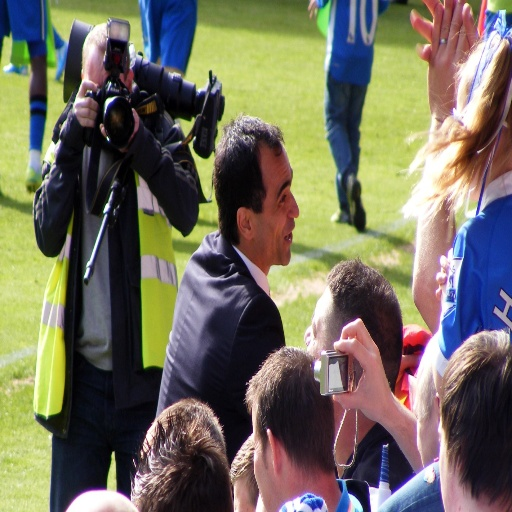hand: (339, 327, 413, 466), (427, 0, 470, 124), (408, 0, 480, 62), (99, 108, 140, 151), (393, 353, 423, 409), (71, 79, 98, 126), (436, 245, 451, 299), (308, 0, 318, 19)
